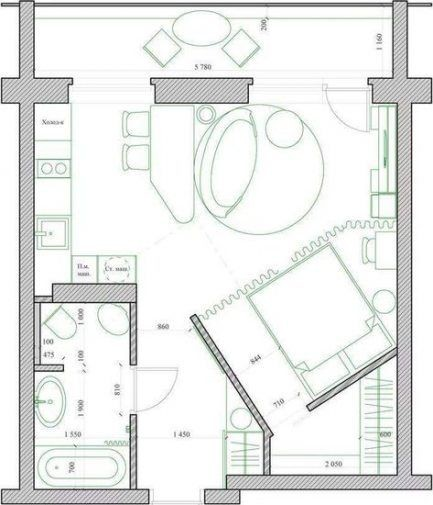door: (118, 366, 190, 414), (316, 85, 373, 133)
room: (1, 66, 417, 494)
wall: (388, 1, 416, 476), (15, 1, 36, 488), (221, 471, 433, 493), (149, 71, 254, 107), (3, 484, 136, 505), (1, 71, 76, 104), (36, 283, 140, 304), (125, 299, 146, 370), (121, 412, 140, 486)
